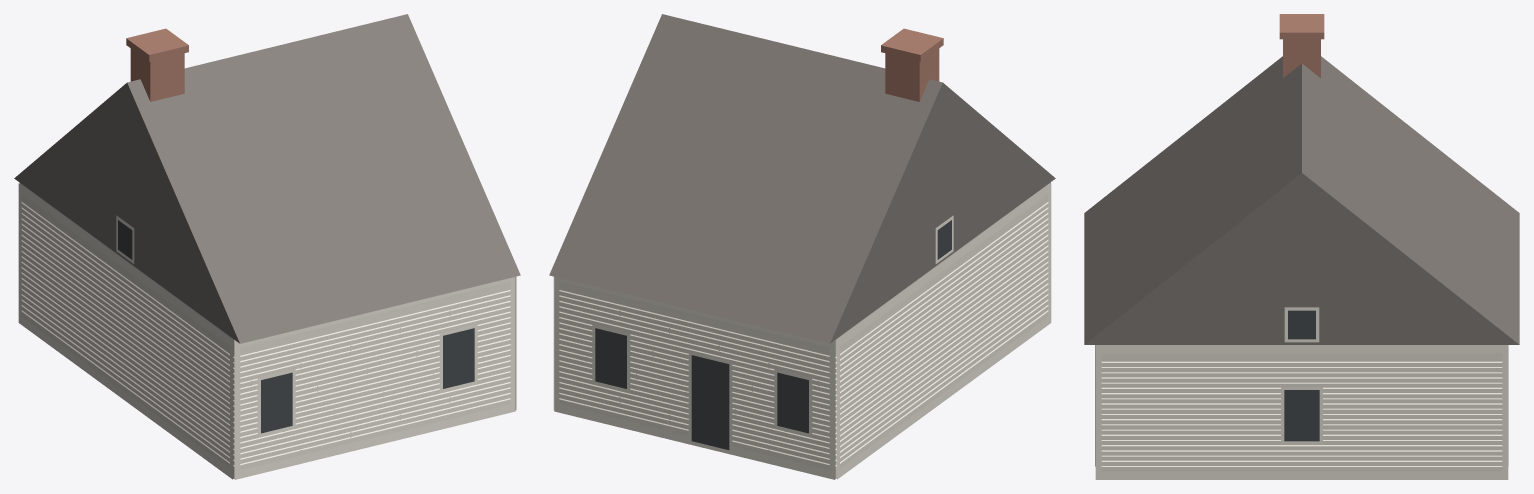
File: recon_1835_blk_randolph_dearborn_d6_10__inferred_1835.glb
The picture shows the model from 3 angles, left to right: view 1: azimuth 30°, elevation 25°; view 2: azimuth 150°, elevation 25°; view 3: azimuth 270°, elevation 25°; orthographic projection. The views are drawn at different scales.
Parts seen in each view (by area): view 1: recon_1835_blk_randolph_dearborn_d6_10__inferred_1835; view 2: recon_1835_blk_randolph_dearborn_d6_10__inferred_1835; view 3: recon_1835_blk_randolph_dearborn_d6_10__inferred_1835.
Part boxes in pixels (bbox=[...]): recon_1835_blk_randolph_dearborn_d6_10__inferred_1835: bbox=[14, 14, 520, 479]; recon_1835_blk_randolph_dearborn_d6_10__inferred_1835: bbox=[549, 14, 1055, 479]; recon_1835_blk_randolph_dearborn_d6_10__inferred_1835: bbox=[1084, 14, 1519, 479].
Size of the model in its own units: 6.99 by 8.25 by 9.61.
